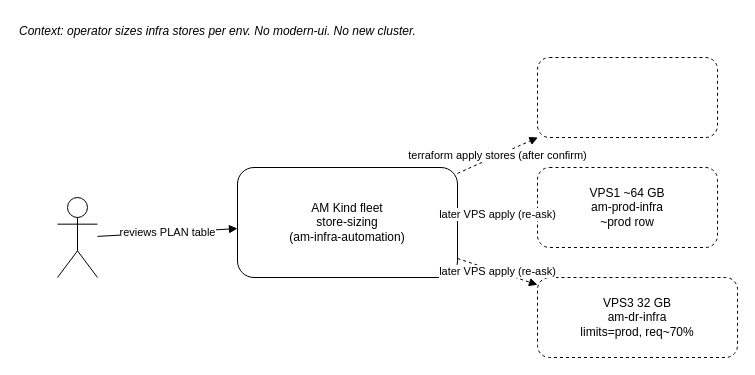
This 755x375 diagram has some shape labels left out. The centre of each missing label's shape, as x and y in pixels:
"Laptop Docker am-dev-infra ~dev row" belongs at point (627, 97).
"Operator (you)" belongs at point (77, 237).
